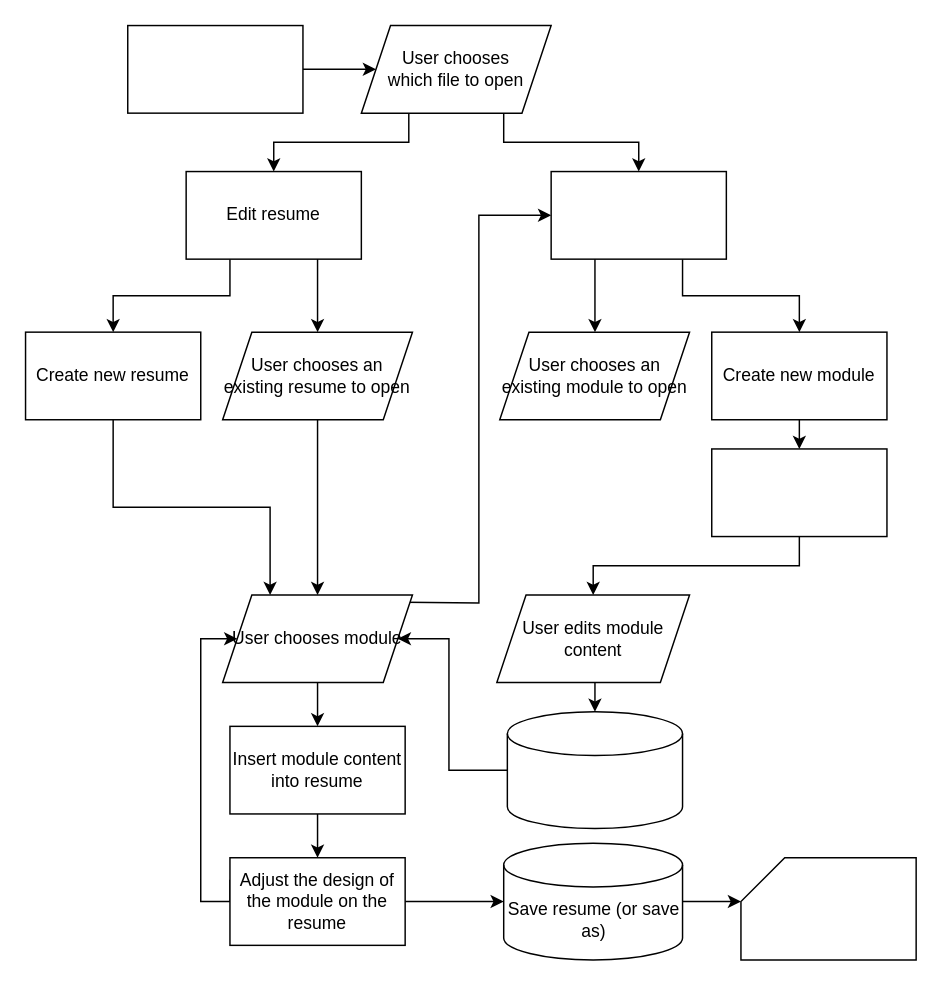
This 942x986 diagram has some shape labels left out. Here are the shapes that lost their labels. From the top down, the centre of each, then its label:
At point 214,68: "Load software".
At point 638,214: "Edit module".
At point 798,492: "Choose module type (text / list / customized)".
At point 594,769: "Save module".
At point 827,908: "Export as PDF".
